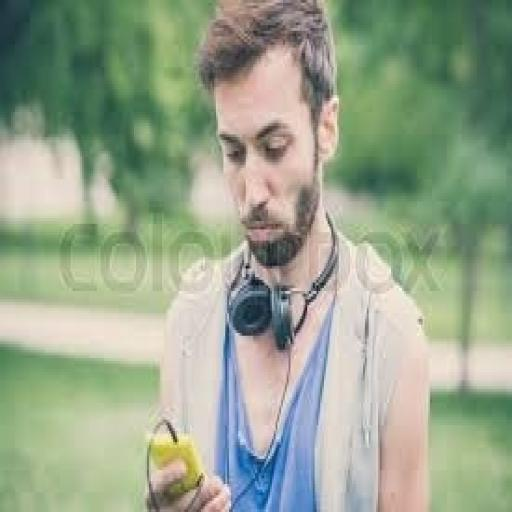listening_to_music: (143, 0, 432, 509)
